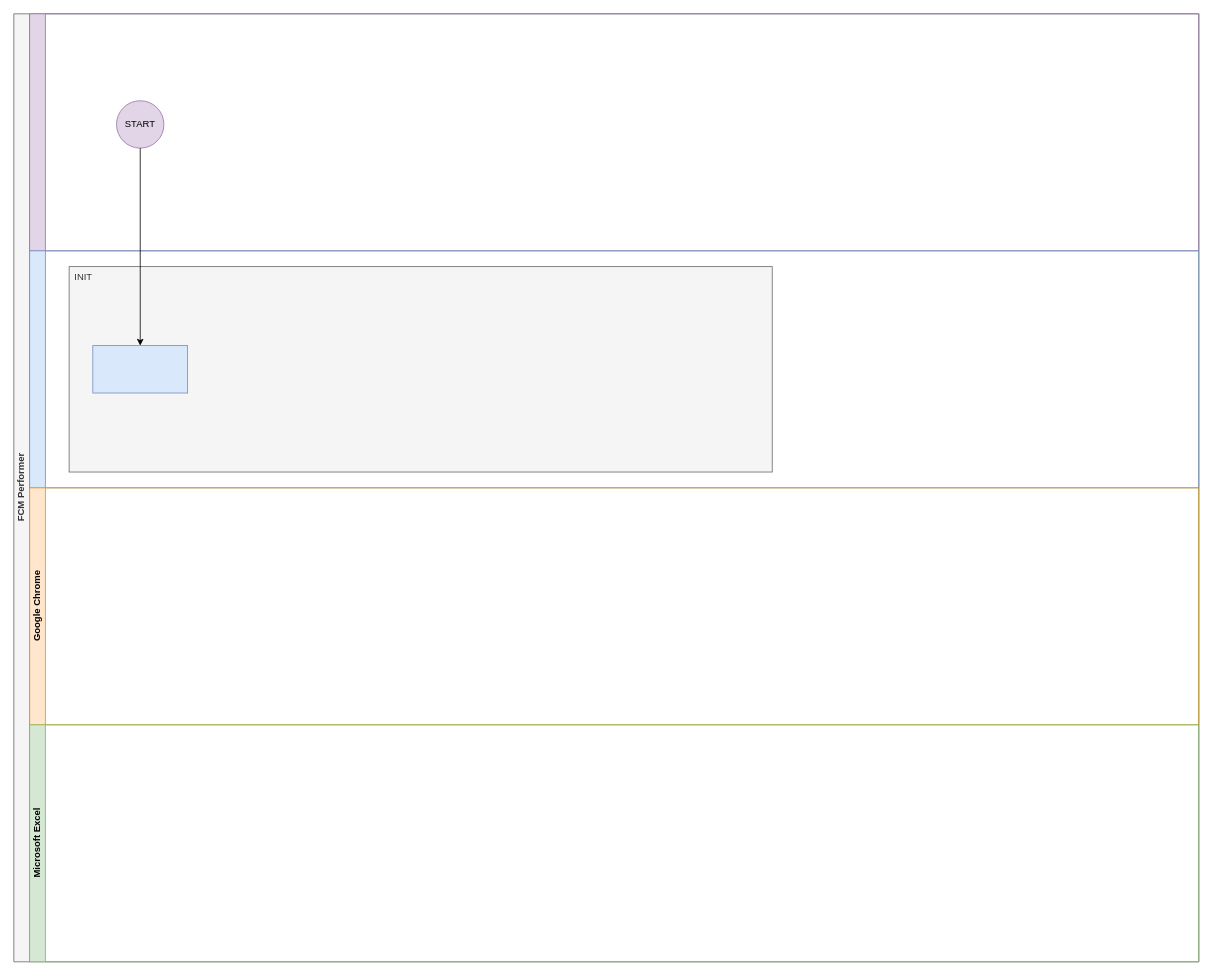
Image size: 1213x976. Some labels were removed from this diagram. The shapes that lost their labels are listed below. From the top down, each one's box as (x1, y1, x2, y2) in pixels, then its label:
(29, 13, 1199, 251): Orchestrator
(29, 250, 1199, 488): Robot
